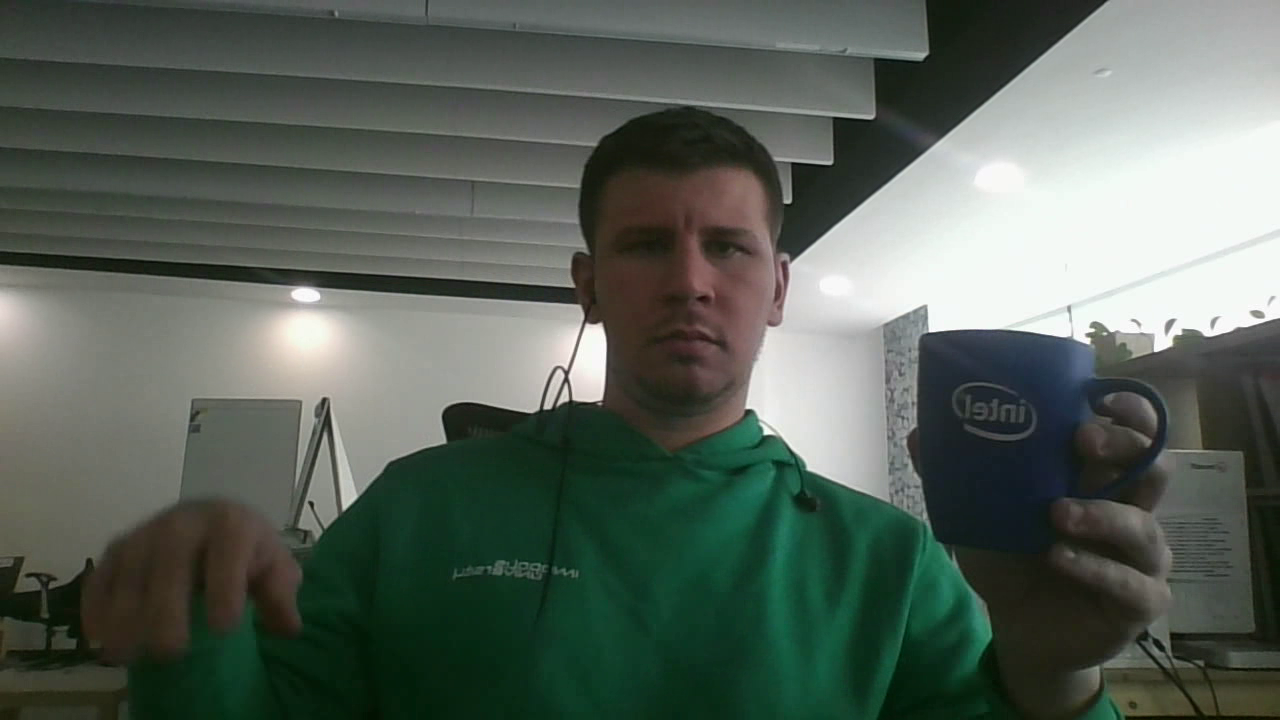cup: (917, 330, 1170, 557)
